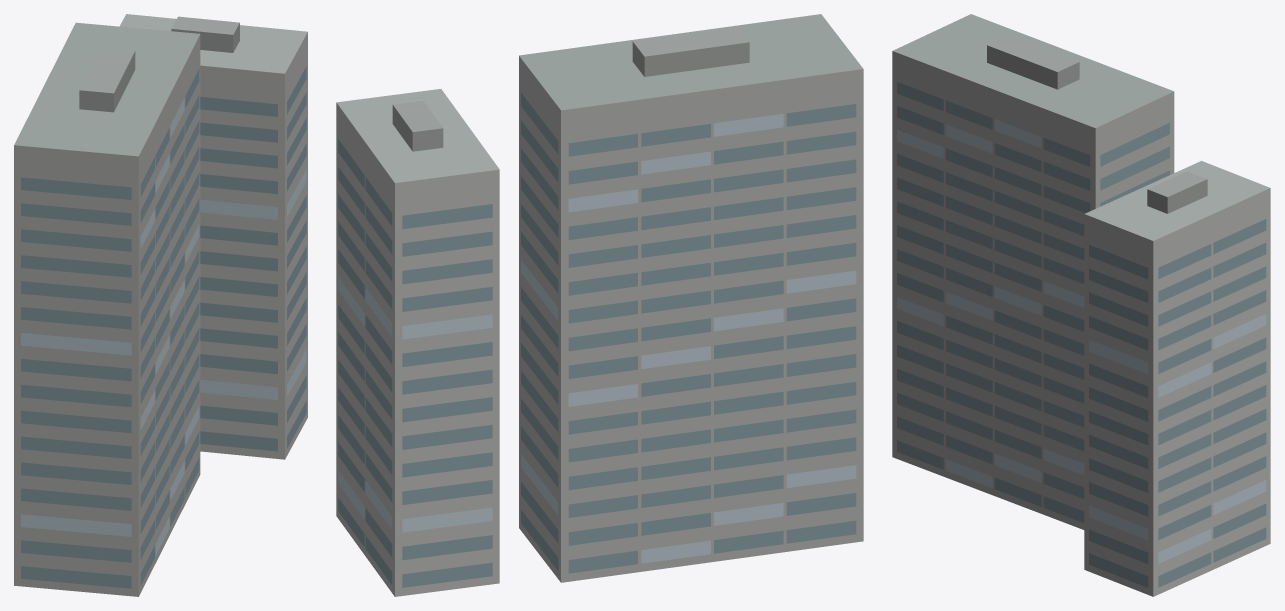
File: apt-a10028042.glb
3 renders of one model, left to right at view 1: azimuth 30°, elevation 25°; view 2: azimuth 150°, elevation 25°; view 3: azimuth 270°, elevation 25°, orthographic. The views are drawn at different scales.
Parts seen in each view (by area): view 1: apt-a10028042; view 2: apt-a10028042; view 3: apt-a10028042.
Part boxes in pixels (x1=…): apt-a10028042: x1=14, y1=14, x2=307, y2=596; apt-a10028042: x1=336, y1=14, x2=863, y2=596; apt-a10028042: x1=892, y1=14, x2=1270, y2=596.
Size of the model in its own units: 51.87 by 58 by 46.91.
